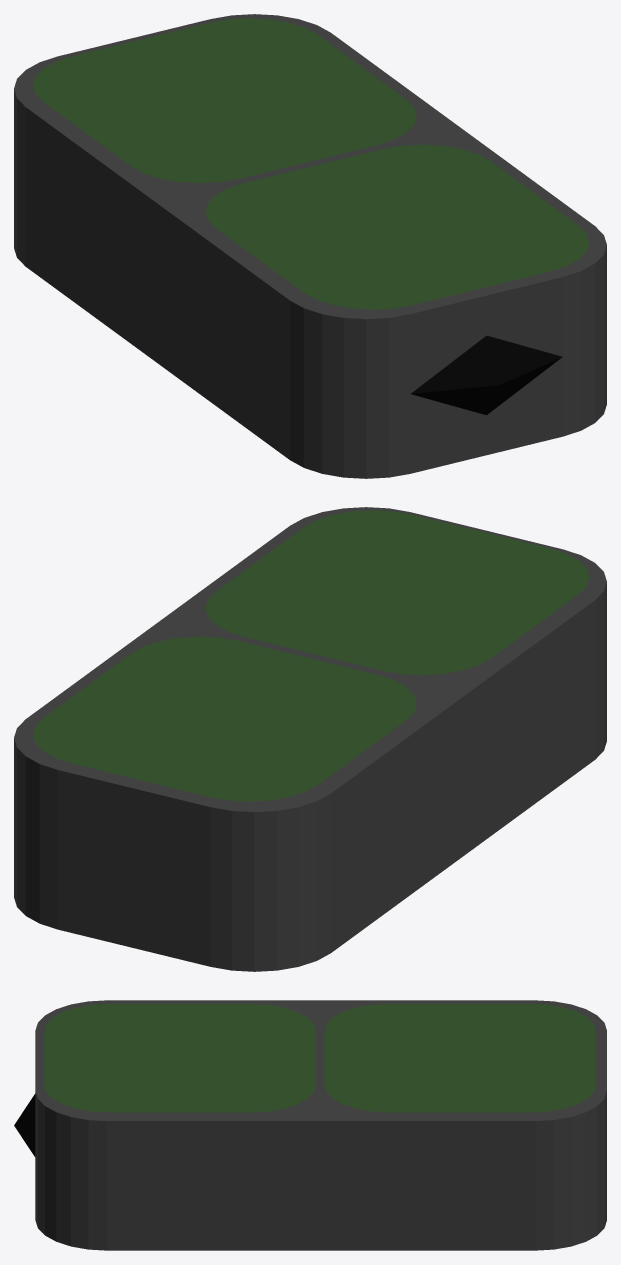
The model's file is Remote.fbx.
3 renders of one model, top to bottom at view 1: azimuth 30°, elevation 25°; view 2: azimuth 150°, elevation 25°; view 3: azimuth 270°, elevation 25°, orthographic. The views are drawn at different scales.
Parts seen in each view (by area): view 1: Cube; view 2: Cube; view 3: Cube.
Part boxes in pixels (bbox=[...]): Cube: bbox=[14, 14, 606, 478]; Cube: bbox=[14, 507, 606, 971]; Cube: bbox=[14, 1000, 606, 1250].
Bounding box in the file's own units: 10 × 5.1 × 20.75.
